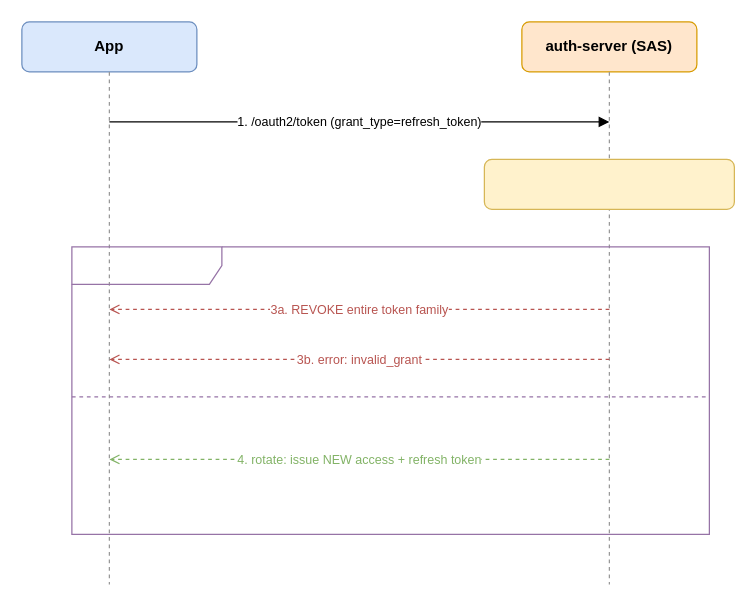
The diagram is 756 pixels wide and 608 high, and some of its shapes have lost their labels. The centre of each missing label's shape, as x and y in pixels:
"2. validate token + check family for reuse" goes at (608,183).
"alt [reuse detected] / [valid]" goes at (390,390).
